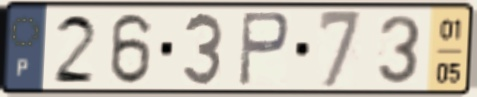2: (48, 12, 102, 86)
3: (373, 12, 424, 87), (180, 9, 227, 88)
6: (105, 10, 156, 88)
7: (315, 7, 365, 92)
P: (235, 9, 293, 89)
